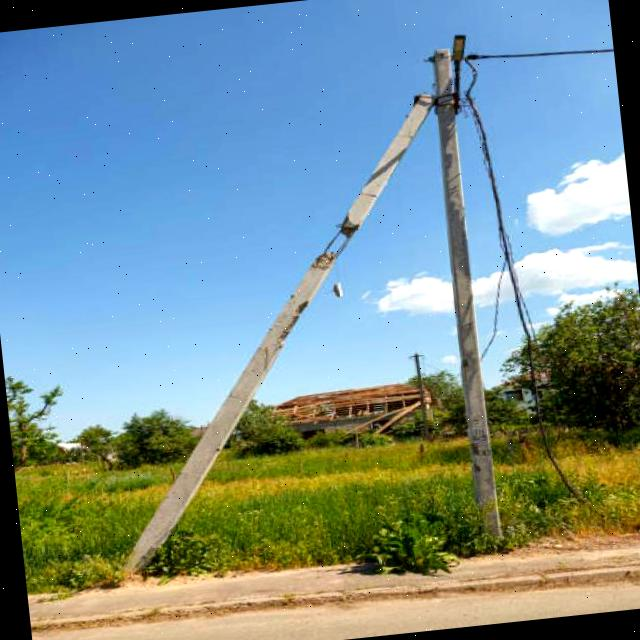Broken Pole: (99, 80, 435, 585)
